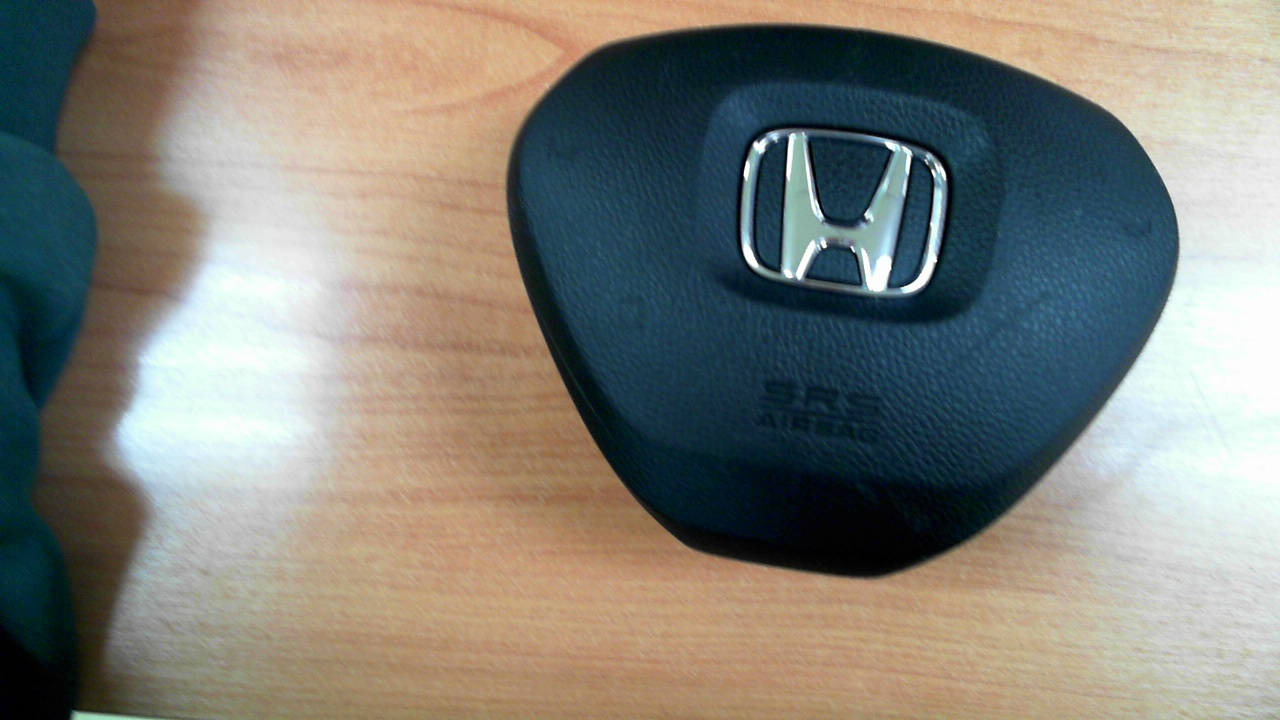Airbag: (506, 23, 1180, 578)
Honda: (740, 127, 950, 298)
